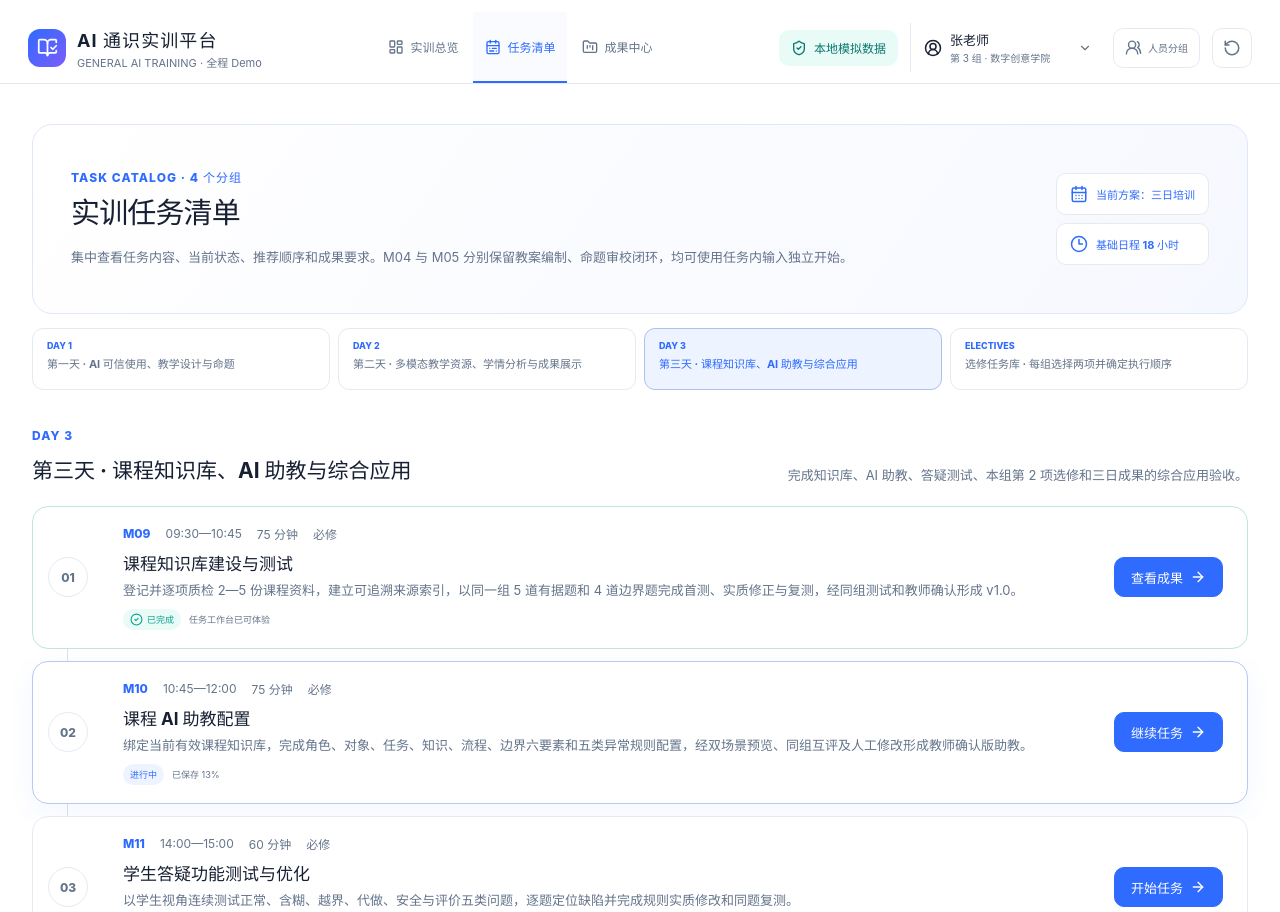
Test: 第三天主应用 M10 集成边界 › M09 通过后首次进入 M10 仍从任务说明开始，不把自动绑定误判为续做
The image size is (1280, 912).
Expected: the text "M10" is shown, [123, 681, 148, 696]
Click the button "继续任务" at point(1168, 732), box [1114, 712, 1223, 752]
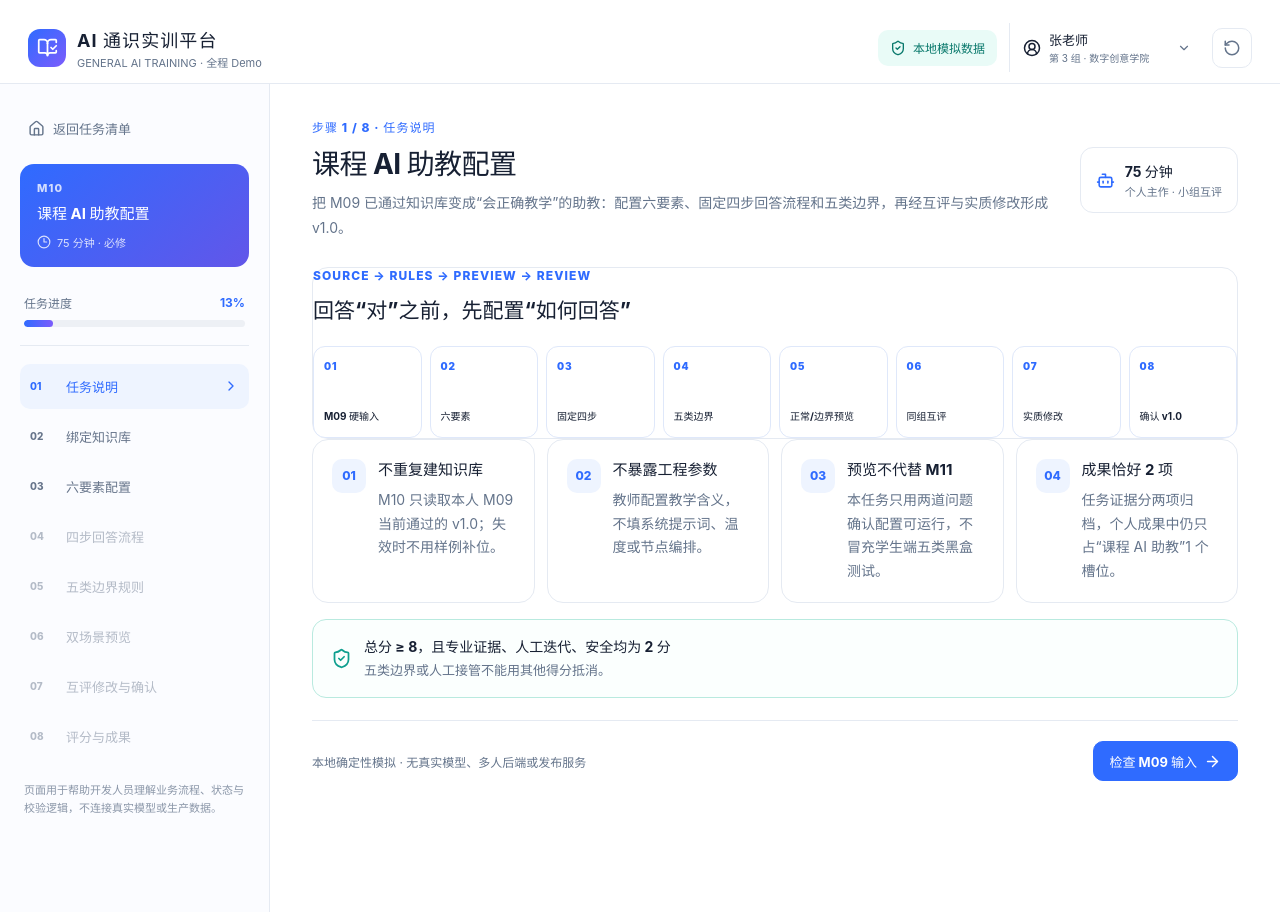
Now the heading "课程 AI 助教配置" is shown, box [312, 147, 516, 181]
Now the button "检查 M09 输入" is enabled, box [1092, 741, 1238, 781]
